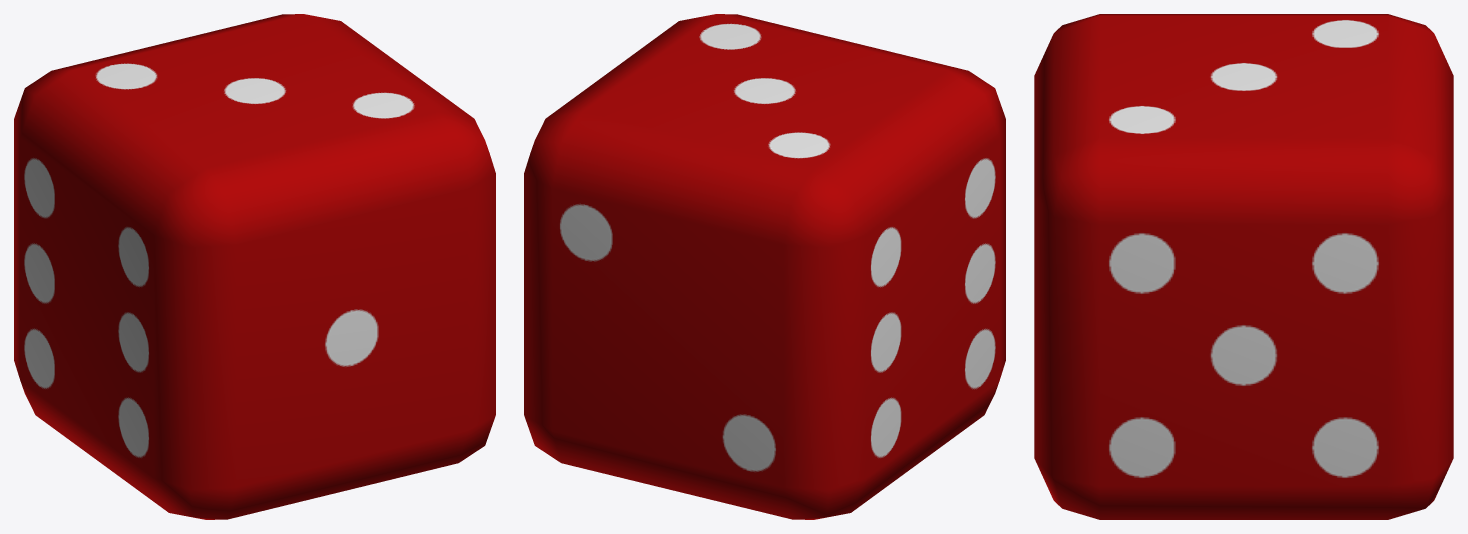
The model's file is die.glb.
3 views of the same model, side by side, from view 1: azimuth 30°, elevation 25°; view 2: azimuth 150°, elevation 25°; view 3: azimuth 270°, elevation 25° (orthographic). The views are drawn at different scales.
Parts seen in each view (by area): view 1: Die_LP; view 2: Die_LP; view 3: Die_LP.
Part boxes in pixels (left/top/right/bottom): Die_LP: left=14, top=14, right=495, bottom=519; Die_LP: left=524, top=14, right=1005, bottom=519; Die_LP: left=1034, top=14, right=1453, bottom=519.
Bounding box in the file's own units: 0.016 × 0.016 × 0.016.
Materials: 1 (1 with a texture image).
